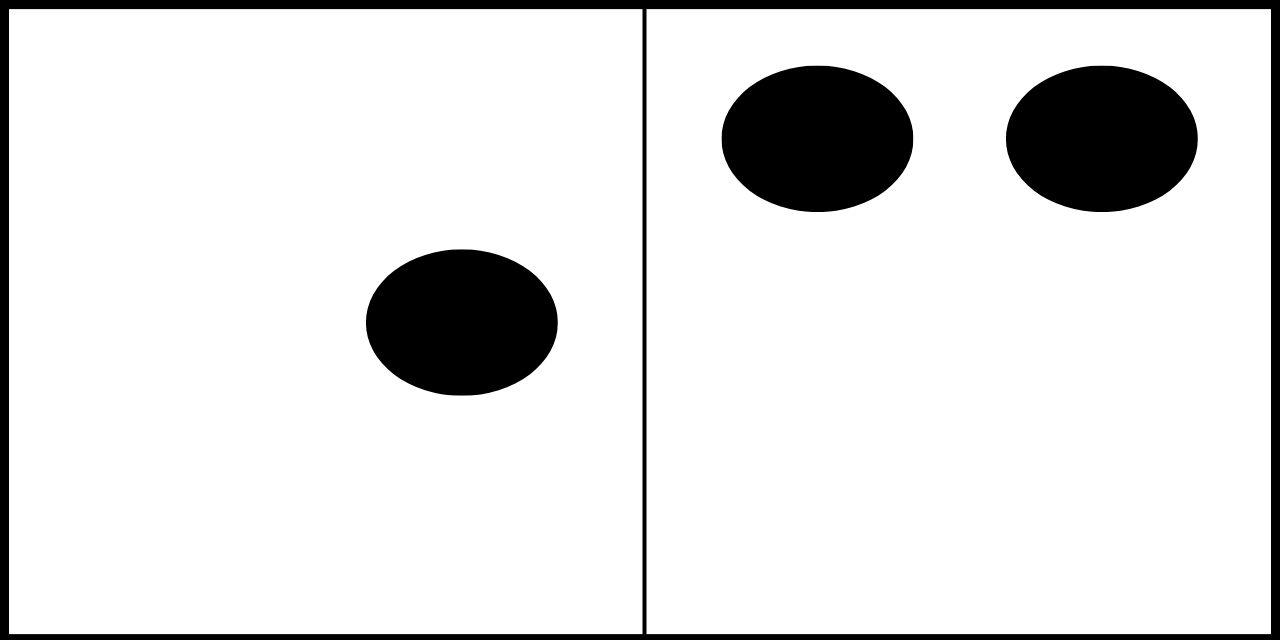dot_5: (90, 62, 560, 570)
karaniwan: (720, 62, 1199, 574)
